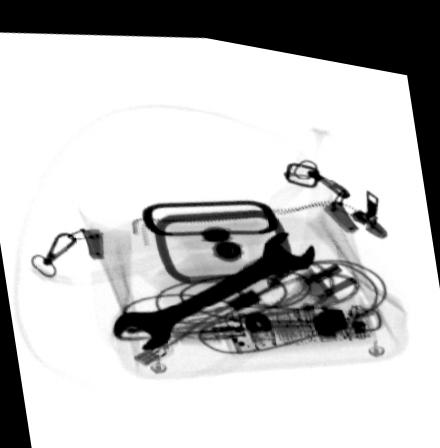Wrench: (112, 218, 317, 345)
